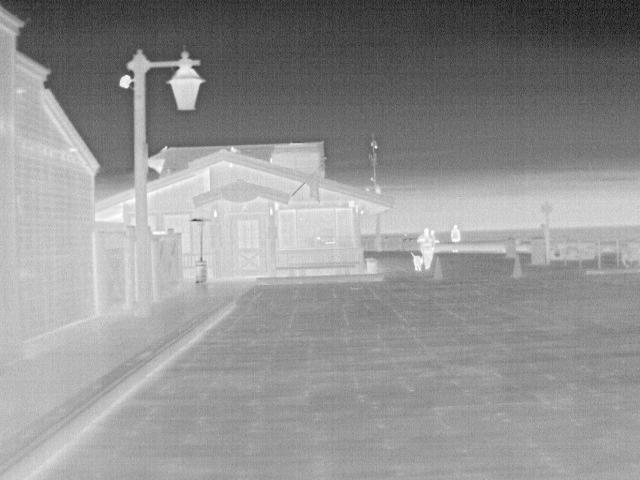dog: (410, 249, 426, 270)
person: (419, 226, 437, 270), (449, 223, 464, 242)
